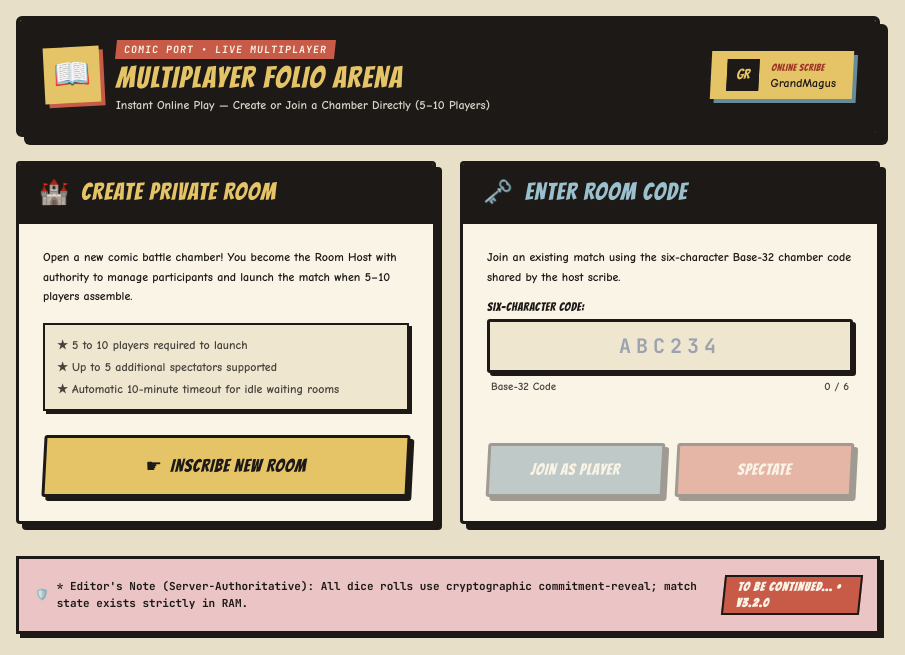
Scenario: MultiplayerLobbyScreen Component Tests (Milestone 1.1) › successfully joins room as player
This screenshot has width=905, height=655.
Later steps or results of the test are not shown.
In the field with placeholder "ABC234": (670, 346) [487,319,853,373], type "XYZ789"
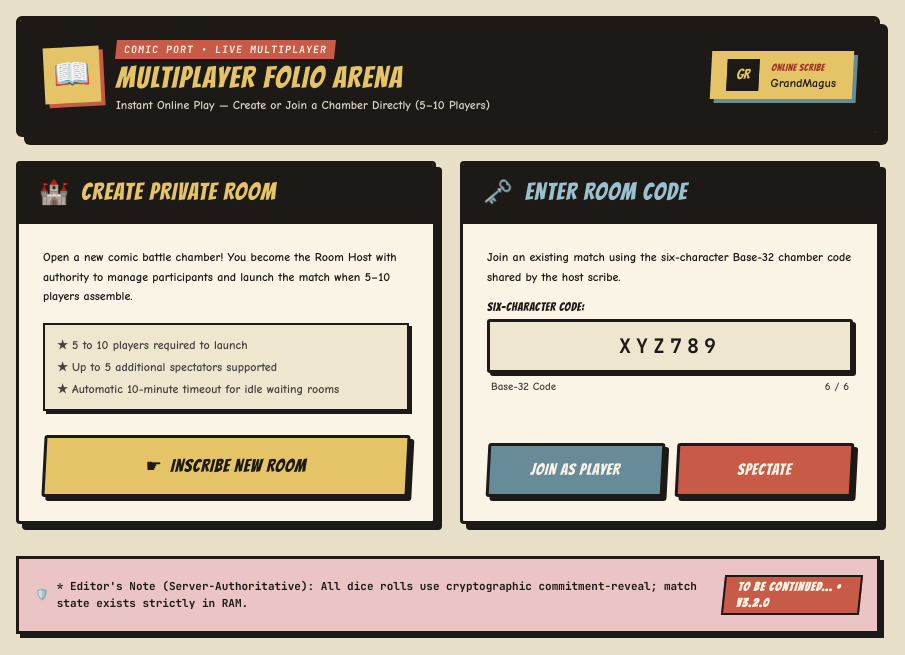
Now the button "Join as Player" is enabled, box [486,442,665,496]
